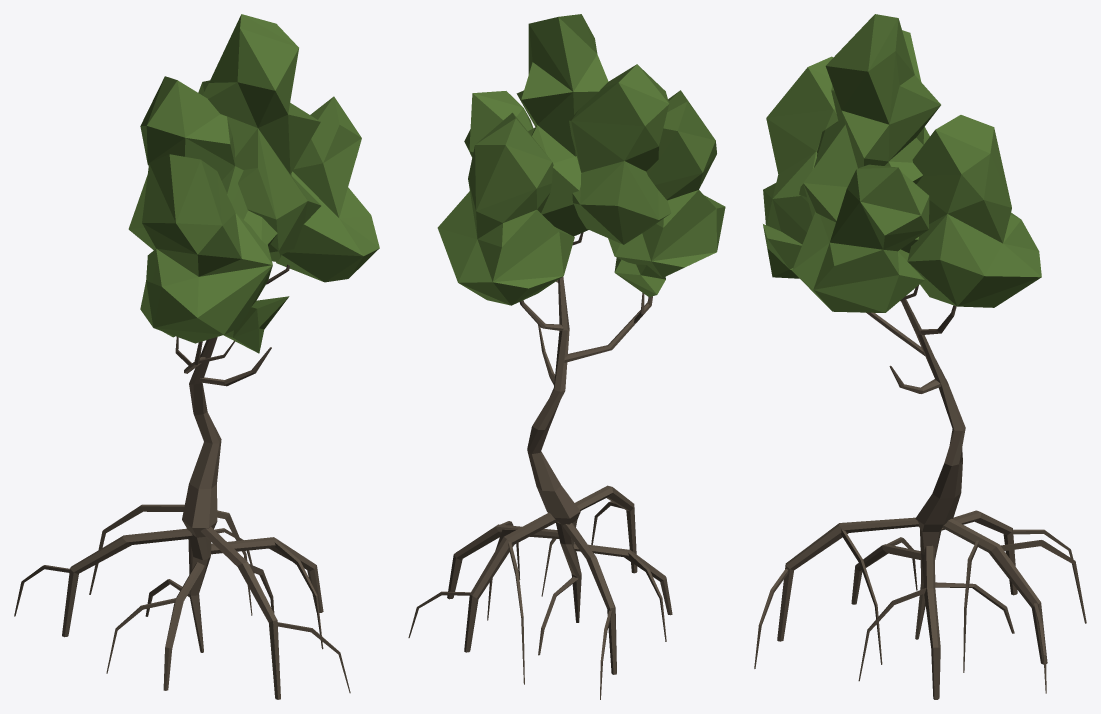
File: SM_Env_Mangrove_Tree_02.glb
3 renders of one model, left to right at view 1: azimuth 30°, elevation 25°; view 2: azimuth 150°, elevation 25°; view 3: azimuth 270°, elevation 25°, orthographic. The views are drawn at different scales.
Visible parts, largest first — view 1: SM_Env_Mangrove_Tree_02; view 2: SM_Env_Mangrove_Tree_02; view 3: SM_Env_Mangrove_Tree_02.
Boxes of the visible parts, x1=… form: SM_Env_Mangrove_Tree_02: x1=14, y1=14, x2=379, y2=699; SM_Env_Mangrove_Tree_02: x1=408, y1=14, x2=725, y2=699; SM_Env_Mangrove_Tree_02: x1=754, y1=14, x2=1086, y2=699.
Size of the model in its own units: 0.0173 by 0.043 by 0.0204.
